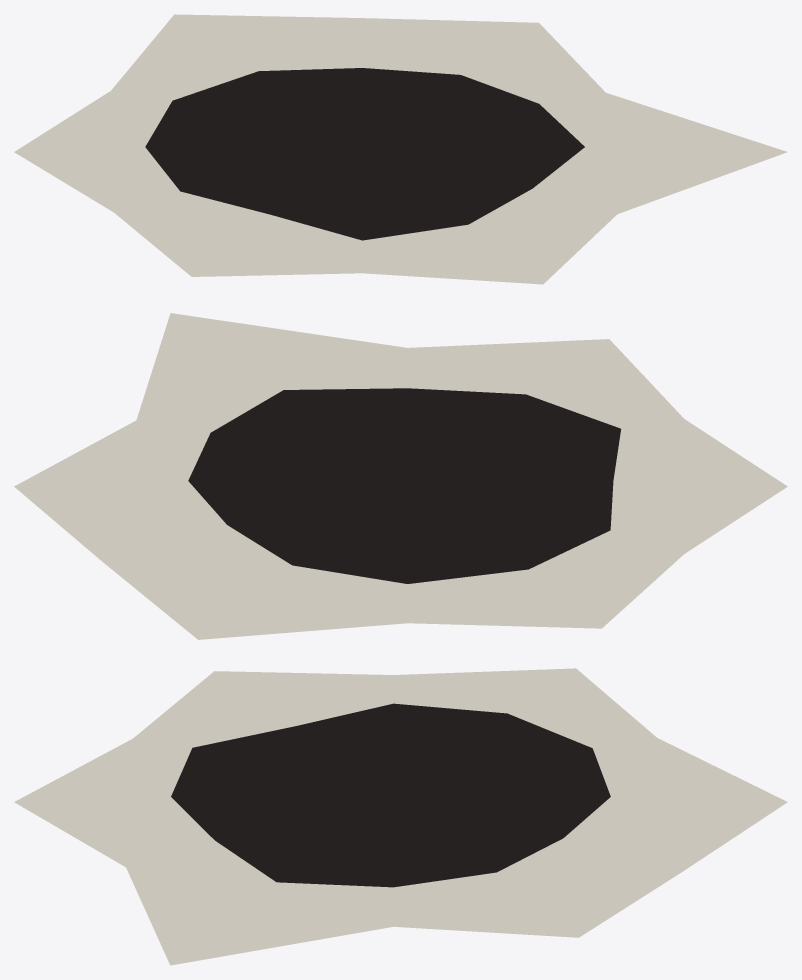
The model's file is hole_wall_08.obj.
3 renders of one model, top to bottom at view 1: azimuth 30°, elevation 25°; view 2: azimuth 150°, elevation 25°; view 3: azimuth 270°, elevation 25°, orthographic. The views are drawn at different scales.
Bounding box in the file's own units: 0.0478 × 0.0004 × 0.0526.
